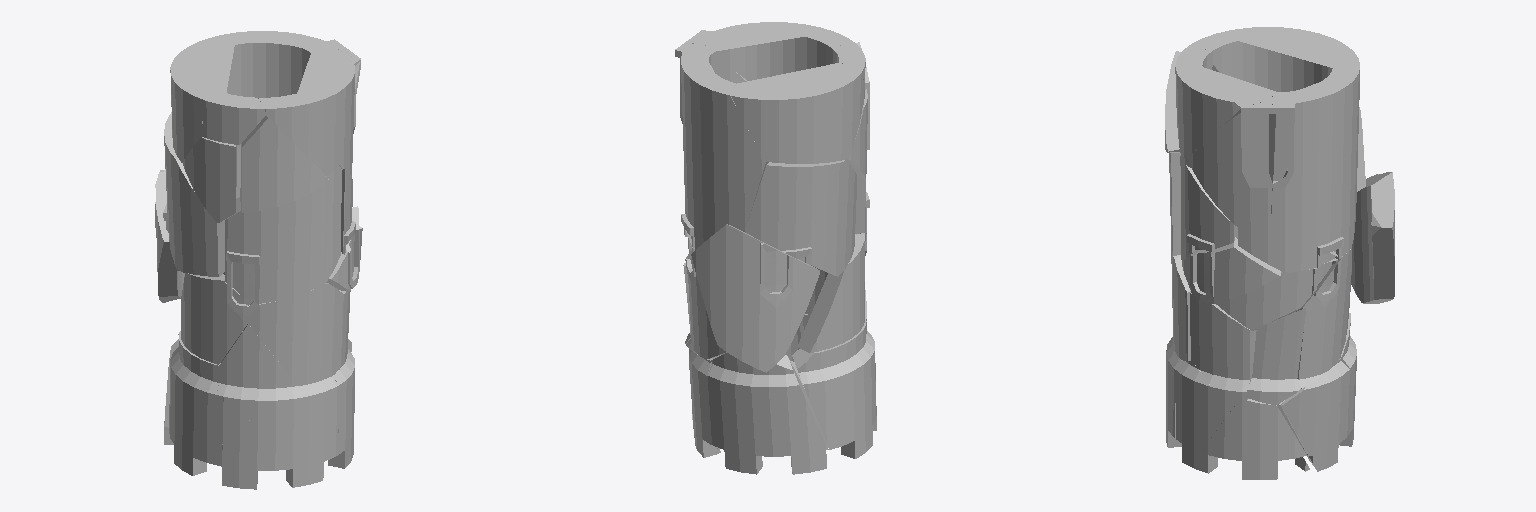
Rendered from destruction_tower_000020.obj.
The picture shows the model from 3 angles: view 1: azimuth 30°, elevation 25°; view 2: azimuth 150°, elevation 25°; view 3: azimuth 270°, elevation 25°; orthographic projection.
Parts seen in each view (by area): view 1: tower.001_cell.024_Mesh.024, tower.001_cell.028_Mesh.028, tower.001_cell.021_Mesh.021, tower.001_cell.006_Mesh.006, tower.001_cell.011_Mesh.011, tower.001_cell.002_Mesh.002, tower.001_cell.013_Mesh.013, tower.001_cell.003_Mesh.003, tower.001_cell.015_Mesh.015, tower.001_cell.009_Mesh.009, tower.001_cell.017_Mesh.017, tower.001_cell.014_Mesh.014 (+9 smaller); view 2: tower.001_cell.025_Mesh.025, tower.001_cell.017_Mesh.017, tower.001_cell.007_Mesh.007, tower.001_cell.015_Mesh.015, tower.001_cell.003_Mesh.003, tower.001_cell.005_Mesh.005, tower.001_cell.028_Mesh.028, tower.001_cell.009_Mesh.009, tower.001_cell.029_Mesh.029, tower.001_cell.012_Mesh.012, tower.001_cell.006_Mesh.006, tower.001_cell.014_Mesh.014 (+3 smaller); view 3: tower.001_cell.017_Mesh.017, tower.001_cell.020_Mesh.020, tower.001_cell.015_Mesh.015, tower.001_cell.028_Mesh.028, tower.001_cell.030_Mesh.030, tower.001_cell.025_Mesh.025, tower.001_cell_Mesh, tower.001_cell.029_Mesh.029, tower.001_cell.012_Mesh.012, tower.001_cell.016_Mesh.016, tower.001_cell.010_Mesh.010, tower.001_cell.023_Mesh.023 (+11 smaller).
Boxes of the visible parts, box(x1,y1,x2,y2) form: tower.001_cell.024_Mesh.024: box(225, 179, 328, 304); tower.001_cell.028_Mesh.028: box(258, 53, 360, 175); tower.001_cell.021_Mesh.021: box(248, 283, 344, 387); tower.001_cell.006_Mesh.006: box(173, 392, 265, 489); tower.001_cell.011_Mesh.011: box(266, 379, 338, 487); tower.001_cell.002_Mesh.002: box(240, 116, 328, 212); tower.001_cell.013_Mesh.013: box(217, 324, 300, 436); tower.001_cell.003_Mesh.003: box(163, 112, 224, 276); tower.001_cell.015_Mesh.015: box(170, 37, 234, 162); tower.001_cell.009_Mesh.009: box(181, 273, 248, 364); tower.001_cell.017_Mesh.017: box(215, 31, 320, 198); tower.001_cell.014_Mesh.014: box(183, 137, 236, 222); tower.001_cell.025_Mesh.025: box(691, 224, 819, 372); tower.001_cell.017_Mesh.017: box(681, 55, 768, 248); tower.001_cell.007_Mesh.007: box(708, 353, 828, 474); tower.001_cell.015_Mesh.015: box(731, 63, 863, 163); tower.001_cell.003_Mesh.003: box(745, 160, 856, 276); tower.001_cell.005_Mesh.005: box(792, 321, 874, 449); tower.001_cell.028_Mesh.028: box(701, 22, 851, 80); tower.001_cell.009_Mesh.009: box(797, 233, 866, 352); tower.001_cell.029_Mesh.029: box(689, 349, 717, 457); tower.001_cell.012_Mesh.012: box(685, 248, 726, 359); tower.001_cell.006_Mesh.006: box(841, 342, 876, 458); tower.001_cell.014_Mesh.014: box(845, 89, 867, 179); tower.001_cell.017_Mesh.017: box(1301, 64, 1359, 258); tower.001_cell.020_Mesh.020: box(1189, 101, 1275, 227); tower.001_cell.015_Mesh.015: box(1238, 27, 1359, 91); tower.001_cell.028_Mesh.028: box(1175, 48, 1276, 158); tower.001_cell.030_Mesh.030: box(1192, 399, 1306, 479); tower.001_cell.025_Mesh.025: box(1351, 172, 1394, 303); tower.001_cell_Mesh: box(1190, 292, 1256, 401); tower.001_cell.029_Mesh.029: box(1281, 358, 1349, 471); tower.001_cell.012_Mesh.012: box(1291, 248, 1351, 388); tower.001_cell.016_Mesh.016: box(1246, 308, 1306, 405); tower.001_cell.010_Mesh.010: box(1182, 237, 1280, 303); tower.001_cell.023_Mesh.023: box(1176, 360, 1237, 466).
Size of the model in its own units: 45.86 by 97.06 by 53.3.